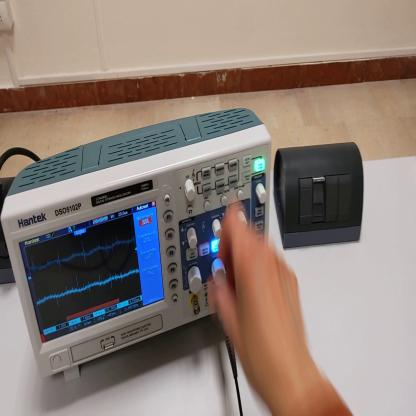hand: (214, 207, 311, 399)
oscilloscope: (2, 108, 274, 384)
socket: (4, 177, 20, 287)
